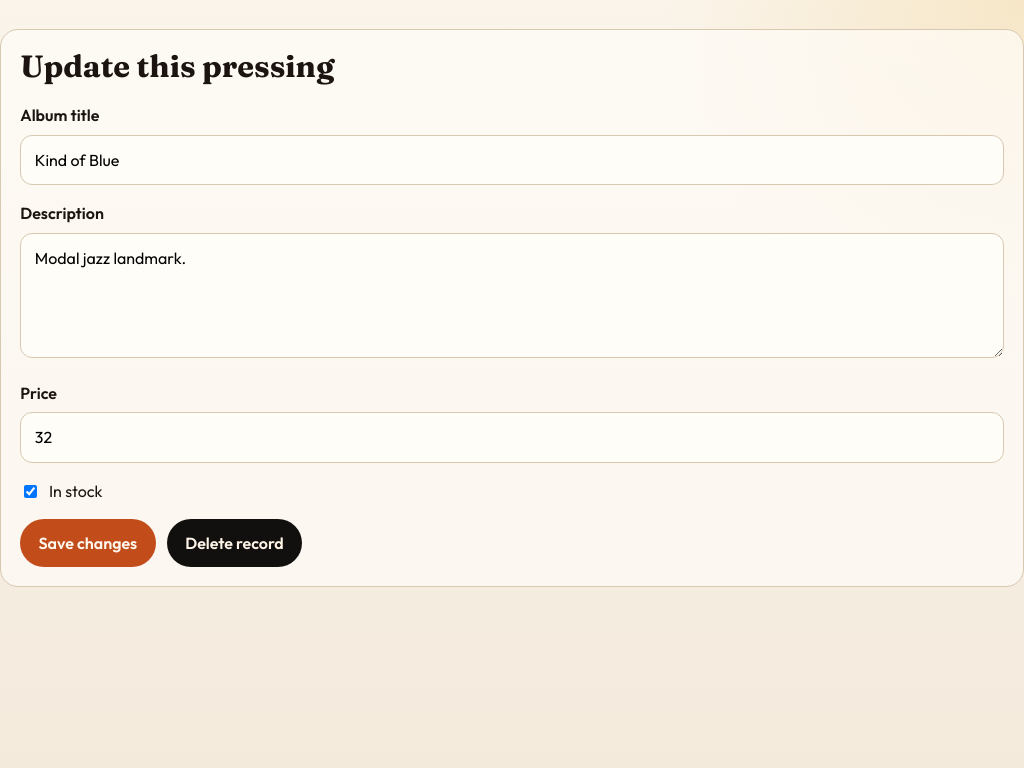
Scenario: ProductEditor › saves price and title updates
Replace the text in the number field labelled "Price" with "40": {"x": 512, "y": 437} [20,412,1004,463]
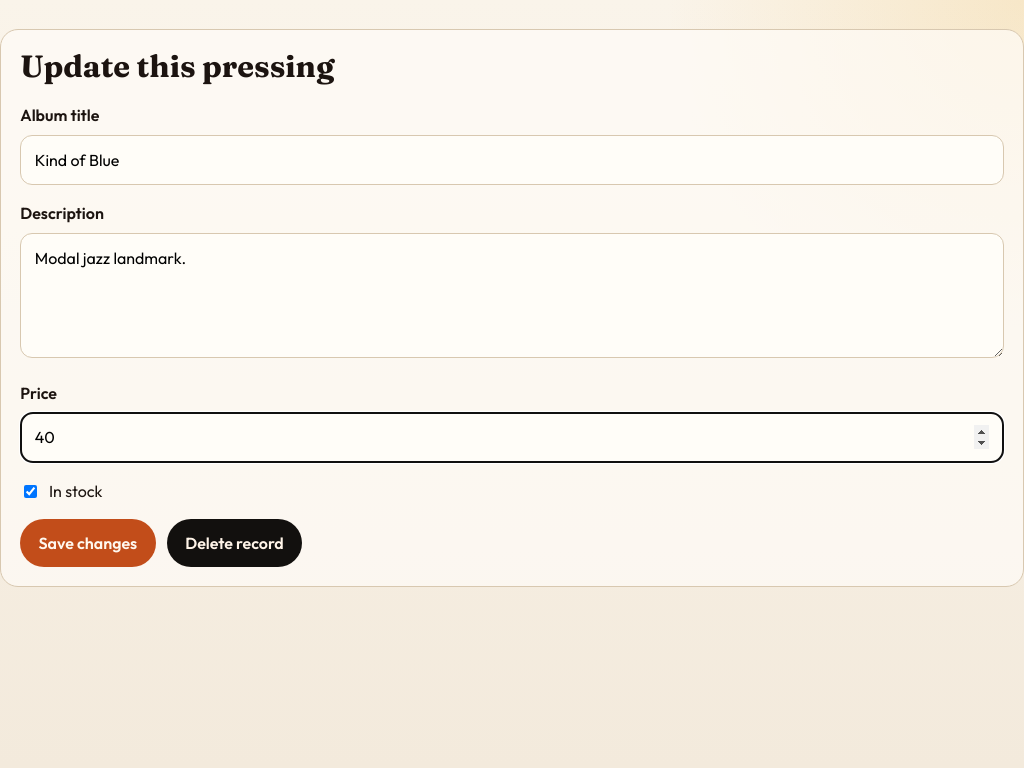
Click the button "Save changes": {"x": 88, "y": 543} [20,519,156,567]
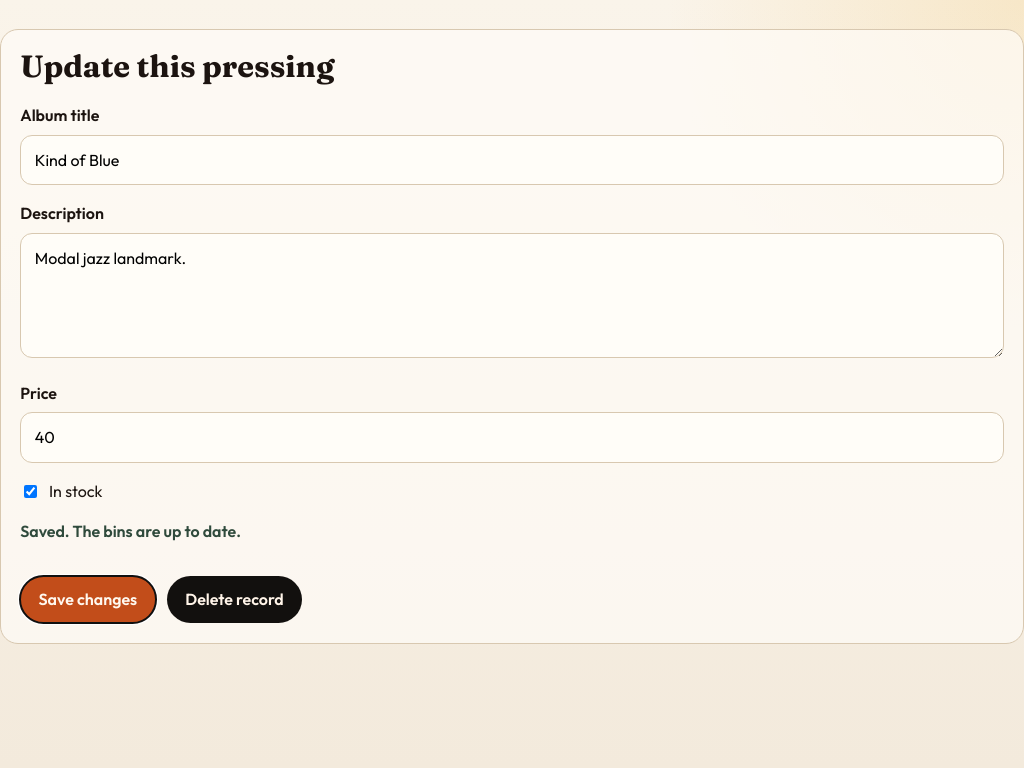
Expected: the text "Saved. The bins are up to date." is shown, [20,521,241,541]
